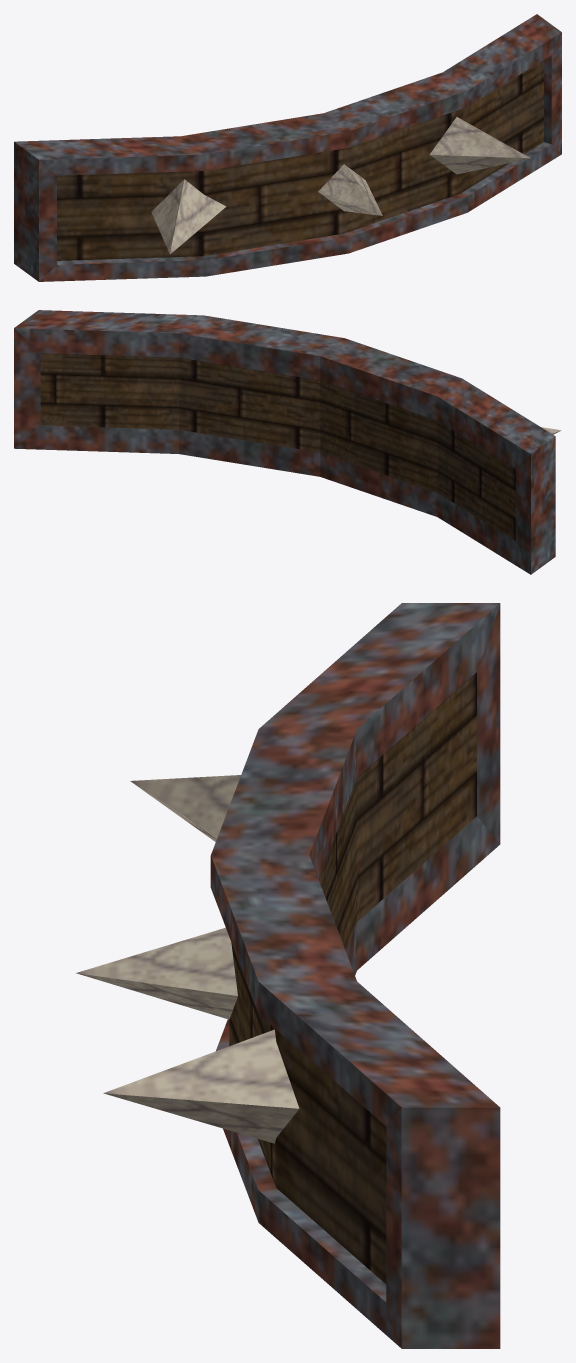
File: SM_KoboldBarricade.fbx
The picture shows the model from 3 angles, top to bottom: view 1: azimuth 30°, elevation 25°; view 2: azimuth 150°, elevation 25°; view 3: azimuth 270°, elevation 25°; orthographic projection. The views are drawn at different scales.
Parts seen in each view (by area): view 1: SM_KoboldBarricade; view 2: SM_KoboldBarricade; view 3: SM_KoboldBarricade.
Boxes of the visible parts, x1,y1,x2,y2 form: SM_KoboldBarricade: (14, 14, 561, 281); SM_KoboldBarricade: (14, 310, 561, 574); SM_KoboldBarricade: (76, 603, 500, 1348).
Bounding box in the file's own units: 1000 × 223 × 356.
